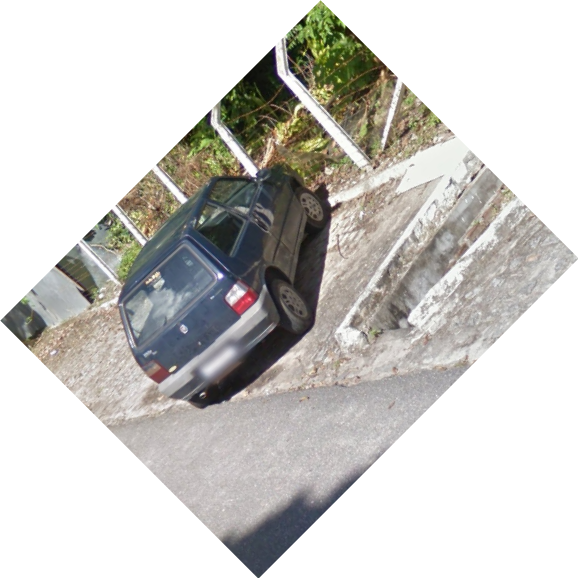car: (110, 163, 370, 424)
